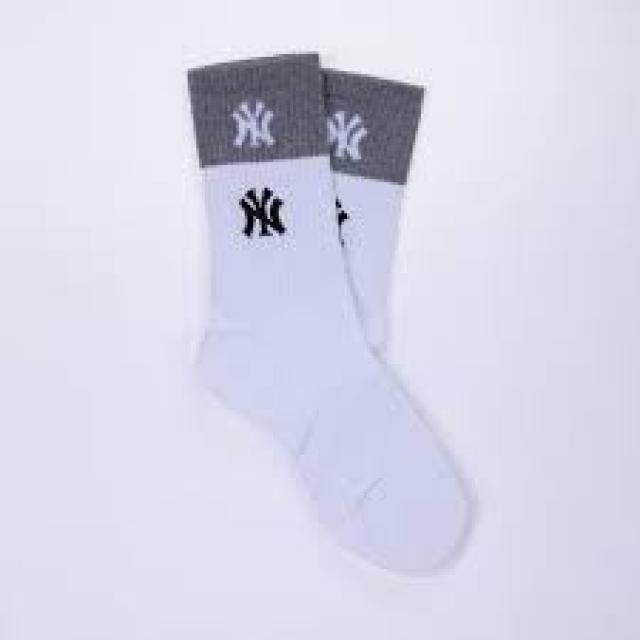sock: (182, 49, 478, 578)
